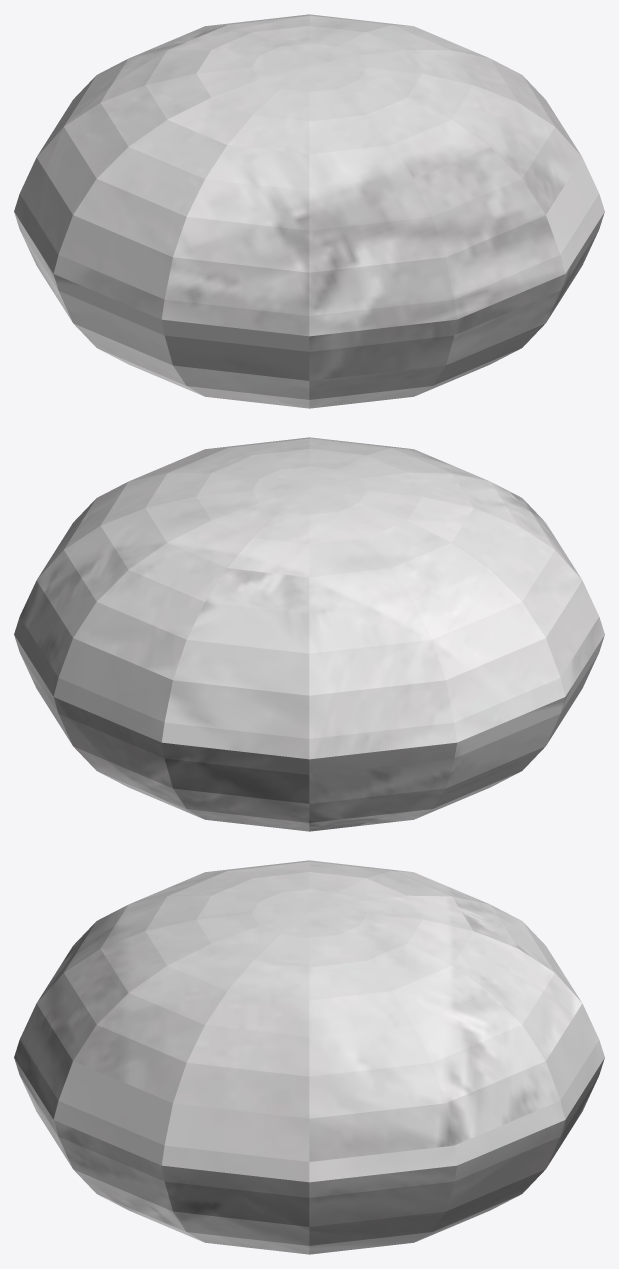
The model's file is packaged_burger.glb.
3 views of the same model, one above another, from view 1: azimuth 30°, elevation 25°; view 2: azimuth 150°, elevation 25°; view 3: azimuth 270°, elevation 25° (orthographic).
Parts seen in each view (by area): view 1: Sphere; view 2: Sphere; view 3: Sphere.
Boxes of the visible parts, x1,y1,x2,y2 form: Sphere: [14, 14, 604, 408]; Sphere: [14, 437, 604, 831]; Sphere: [14, 860, 604, 1254].
Bounding box in the file's own units: 2 × 1.09 × 2.
1 material, 1 textured.
